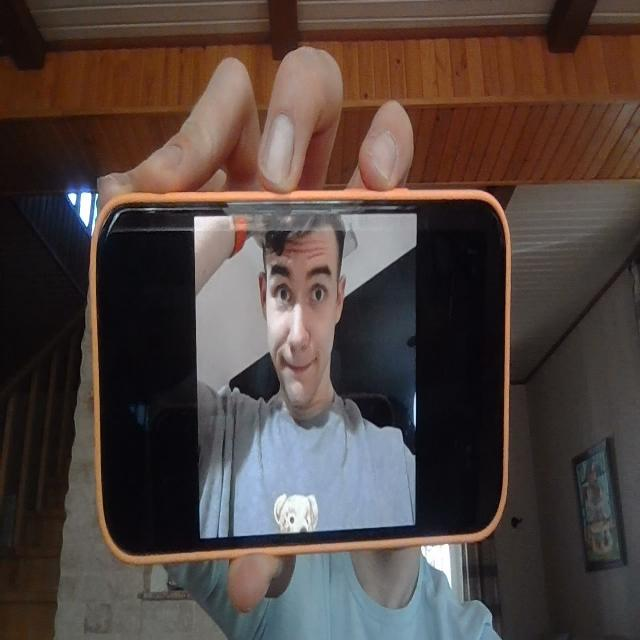device: (94, 197, 508, 563)
